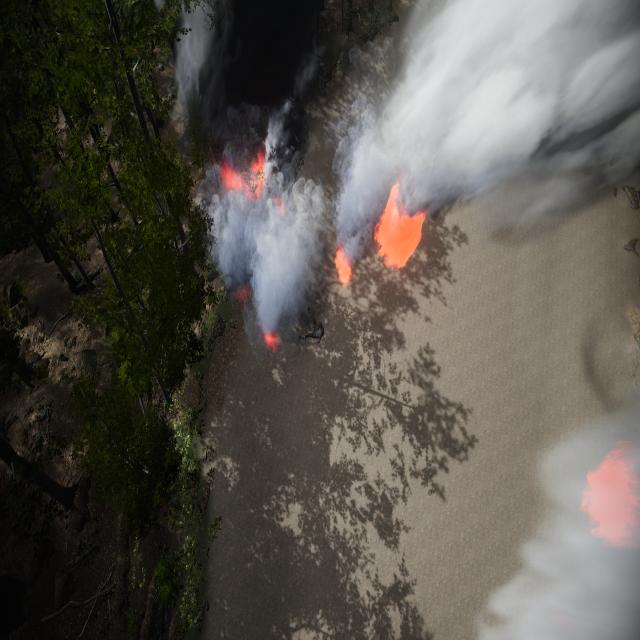Human: (292, 300, 331, 355)
